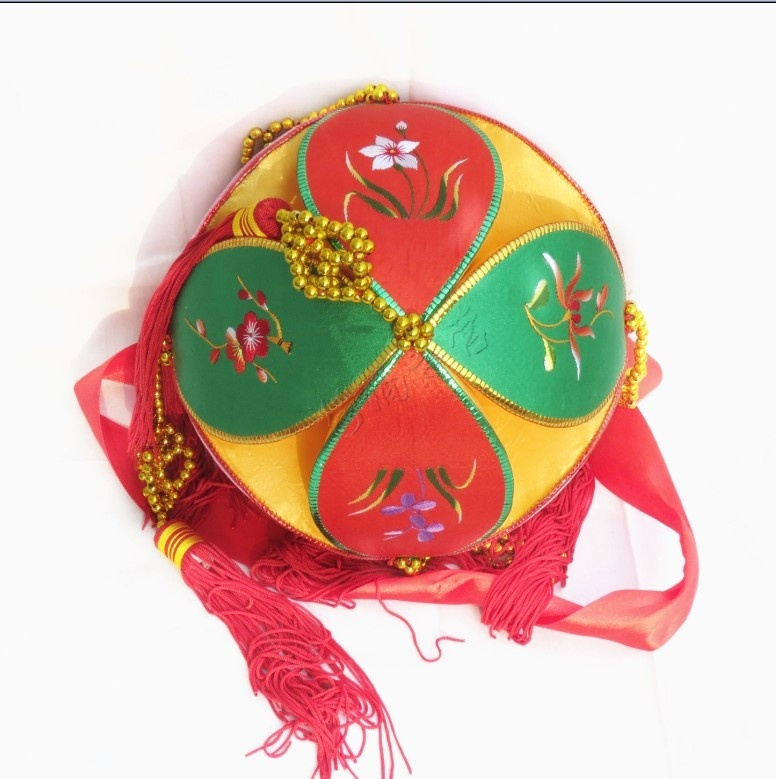xiuqiu: (163, 101, 644, 571)
